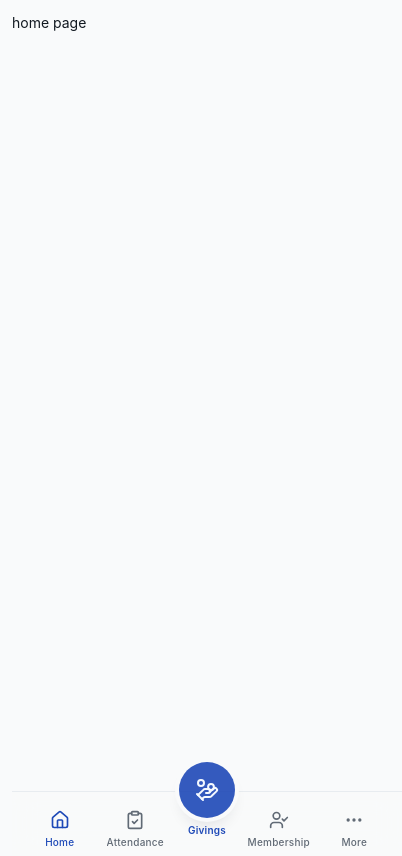
Test: MobileTabBar › navigates to Membership from the bottom tab
Step 1. Click the link "Membership" → (279, 826), box [243,802,314,850]
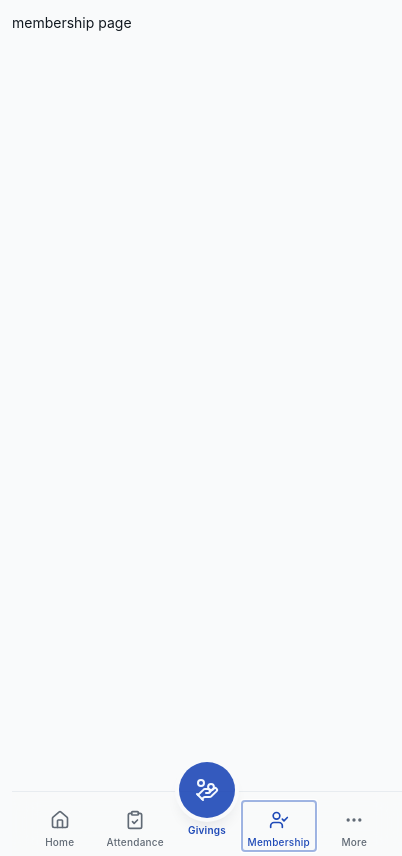
Check: the text "membership page" is shown, box [12,14,132,31]
